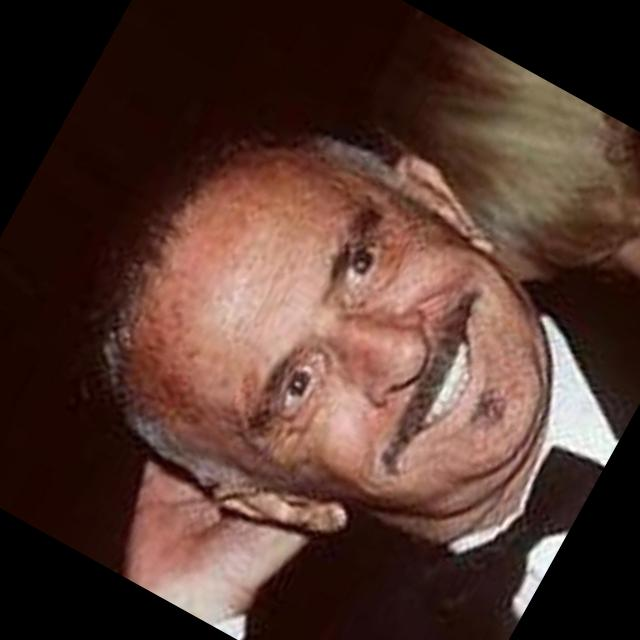bareface: (57, 54, 631, 608)
